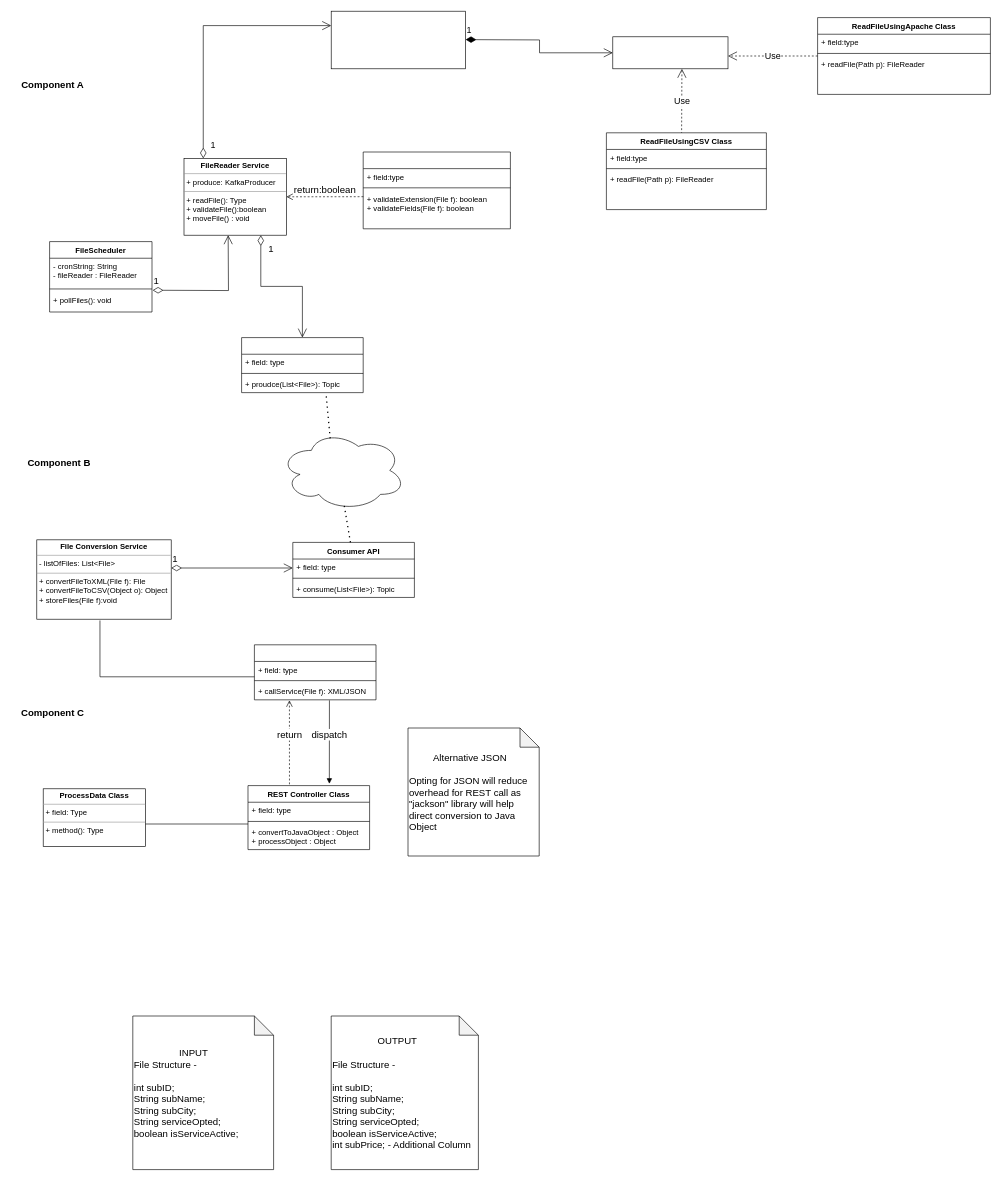
Image size: 1002x1181. Some labels were removed from this diagram. The box of each missing label's shape, as (x1, y1, x2, y2) in pixels:
Message Queue Cluster: (279, 430, 405, 510)
Producer API: (241, 337, 363, 393)
ReadFactory Class FileInstance:Object + getInstance() : FileInstance: (331, 11, 466, 69)
REST Template Service: (254, 644, 376, 700)
VaildateFile Class: (363, 151, 510, 229)
«interface» FileReadingInstance: (612, 36, 728, 69)
